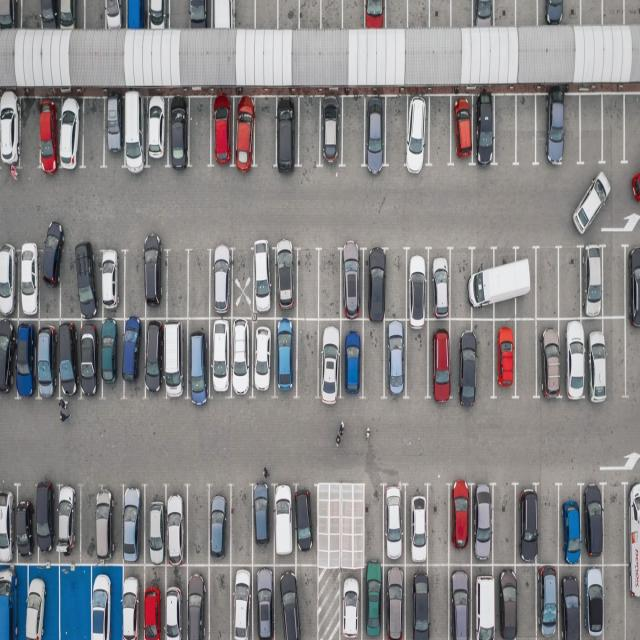space-empty: (58, 562, 93, 638), (468, 321, 496, 402), (602, 318, 630, 397), (512, 320, 538, 398), (293, 320, 319, 398), (207, 564, 234, 639), (231, 486, 256, 566), (291, 564, 318, 638), (406, 323, 432, 397), (600, 245, 626, 319), (425, 96, 452, 167), (600, 95, 626, 168), (491, 93, 517, 165), (492, 487, 516, 565), (341, 95, 367, 167), (361, 487, 384, 568), (424, 564, 449, 638), (362, 319, 386, 396), (185, 488, 209, 565), (380, 250, 406, 321), (188, 97, 214, 168), (254, 97, 280, 168), (82, 98, 108, 169), (579, 95, 604, 168), (604, 562, 628, 638), (297, 97, 323, 167), (534, 249, 559, 321), (383, 97, 408, 169), (228, 248, 253, 320), (293, 251, 319, 320), (426, 483, 448, 564), (537, 489, 560, 566), (557, 250, 583, 318), (515, 566, 539, 638), (316, 251, 341, 320), (20, 99, 43, 174), (602, 486, 624, 564), (60, 244, 83, 318), (166, 250, 191, 318), (515, 94, 538, 166), (186, 251, 210, 318), (124, 251, 148, 318), (561, 94, 582, 169), (449, 251, 472, 319), (318, 490, 337, 567), (78, 488, 98, 561), (624, 319, 640, 396), (624, 93, 640, 165), (342, 0, 366, 30), (318, 0, 342, 30), (298, 0, 322, 30), (384, 0, 408, 29), (407, 0, 431, 29), (255, 0, 278, 30), (277, 0, 299, 31), (449, 0, 474, 27), (429, 0, 453, 28), (168, 0, 190, 30), (85, 0, 107, 30), (514, 0, 538, 27), (234, 0, 256, 28), (21, 0, 42, 29), (492, 0, 514, 27), (601, 0, 624, 25), (581, 0, 603, 25), (624, 0, 640, 23)
space-occupied: (17, 563, 56, 640), (569, 320, 601, 402), (86, 562, 120, 638), (558, 318, 590, 398), (455, 318, 486, 399), (587, 318, 616, 398), (538, 94, 569, 167), (536, 320, 564, 399), (186, 319, 213, 400), (448, 319, 474, 402), (164, 320, 191, 399), (230, 566, 258, 640), (471, 564, 499, 638), (122, 318, 148, 397), (206, 319, 232, 398), (272, 318, 298, 396), (380, 483, 405, 564), (404, 97, 432, 169), (428, 323, 454, 400), (446, 483, 471, 563), (492, 318, 518, 394), (252, 319, 277, 398), (227, 319, 252, 398), (33, 320, 58, 399), (160, 567, 187, 640), (183, 564, 209, 639), (56, 485, 82, 560), (120, 565, 146, 640), (382, 321, 407, 398), (448, 564, 474, 638), (122, 96, 148, 170), (406, 484, 430, 564), (472, 483, 496, 563), (58, 320, 82, 400), (122, 484, 146, 564), (491, 247, 518, 318), (13, 244, 38, 320), (39, 242, 63, 321), (449, 96, 476, 166), (557, 563, 582, 638), (208, 486, 232, 564), (340, 319, 364, 397), (142, 96, 168, 168), (142, 486, 166, 564), (31, 482, 55, 560), (101, 250, 128, 319), (272, 485, 296, 562), (164, 487, 188, 564), (471, 247, 497, 318), (340, 569, 366, 640), (13, 319, 36, 399), (578, 562, 602, 638), (95, 487, 119, 563), (208, 248, 234, 318), (363, 98, 389, 168), (318, 98, 344, 168), (577, 248, 603, 318), (361, 250, 387, 320), (251, 486, 274, 565), (209, 96, 234, 168), (141, 564, 165, 639), (166, 96, 191, 168), (380, 563, 404, 638), (560, 489, 584, 564), (252, 565, 276, 640), (274, 563, 298, 638), (144, 319, 167, 397), (318, 316, 340, 397), (254, 243, 278, 317), (534, 566, 558, 640), (405, 564, 429, 638), (274, 97, 299, 168), (472, 97, 497, 168), (59, 98, 84, 169), (428, 251, 454, 319), (101, 316, 123, 396), (80, 320, 102, 400), (232, 98, 257, 168), (515, 488, 538, 564), (273, 246, 297, 317), (81, 244, 104, 318), (340, 250, 365, 318), (406, 251, 431, 319), (512, 248, 536, 318), (494, 567, 517, 640), (293, 490, 315, 566), (0, 96, 21, 174), (16, 485, 37, 562), (104, 98, 127, 168), (144, 249, 168, 316), (583, 487, 604, 563), (360, 568, 382, 640), (39, 98, 60, 172), (0, 563, 20, 640), (0, 243, 19, 317), (0, 490, 17, 567), (625, 482, 640, 563), (625, 561, 640, 637), (0, 319, 14, 397), (626, 243, 640, 319), (540, 0, 580, 25), (126, 0, 150, 31), (56, 0, 81, 29), (147, 0, 171, 29), (187, 0, 211, 29), (210, 0, 234, 29), (362, 0, 386, 28), (104, 0, 126, 30), (473, 0, 497, 27), (0, 0, 20, 30), (40, 0, 58, 30)
